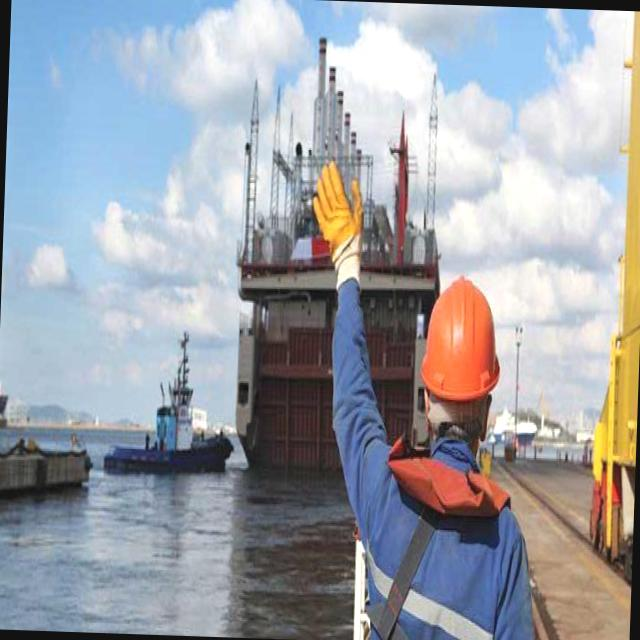helmet: (412, 277, 506, 415)
no-vest: (344, 446, 548, 640)
